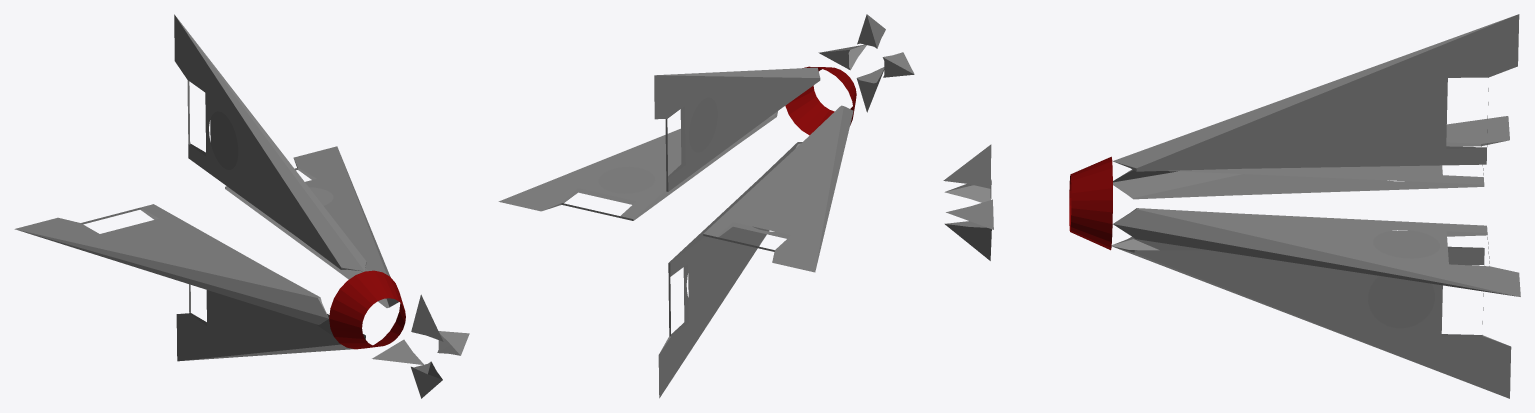
Rendered from missileSuzanne.obj.
3 renders of one model, left to right at view 1: azimuth 30°, elevation 25°; view 2: azimuth 150°, elevation 25°; view 3: azimuth 270°, elevation 25°, orthographic. The views are drawn at different scales.
Visible parts, largest first — view 1: group_5.004_ID62, group_7.004_ID112, group_6.004_ID87, group_4.004_ID35, group_8.018_ID137, group_3.001_ID28, group_0.001_ID5, group_1.001_ID14, group_2.001_ID21; view 2: group_7.004_ID112, group_5.004_ID62, group_4.004_ID35, group_6.004_ID87, group_8.018_ID137, group_2.001_ID21, group_0.001_ID5, group_1.001_ID14, group_3.001_ID28; view 3: group_5.004_ID62, group_6.004_ID87, group_4.004_ID35, group_7.004_ID112, group_8.018_ID137, group_3.001_ID28, group_0.001_ID5, group_2.001_ID21, group_1.001_ID14.
Boxes of the visible parts, x1,y1,x2,y2 form: group_5.004_ID62: (174,14,366,271); group_7.004_ID112: (14,204,328,324); group_6.004_ID87: (176,284,365,361); group_4.004_ID35: (225,146,398,307); group_8.018_ID137: (329,270,405,349); group_3.001_ID28: (411,294,443,341); group_0.001_ID5: (411,361,442,398); group_1.001_ID14: (372,339,424,365); group_2.001_ID21: (437,331,469,355); group_7.004_ID112: (703,105,853,272); group_5.004_ID62: (654,67,820,191); group_4.004_ID35: (498,111,777,220); group_6.004_ID87: (658,142,802,398); group_8.018_ID137: (785,66,856,135); group_2.001_ID21: (818,44,866,70); group_0.001_ID5: (856,67,884,112); group_1.001_ID14: (882,52,914,77); group_3.001_ID28: (857,14,885,48); group_5.004_ID62: (1113,14,1519,171); group_6.004_ID87: (1111,237,1511,398); group_4.004_ID35: (1113,208,1520,296); group_7.004_ID112: (1113,116,1509,199); group_8.018_ID137: (1069,156,1112,250); group_3.001_ID28: (943,144,991,188); group_0.001_ID5: (944,221,991,260); group_2.001_ID21: (946,199,993,229); group_1.001_ID14: (944,179,991,202).
Bounding box in the file's own units: 0.3529 × 0.353 × 0.4793.
